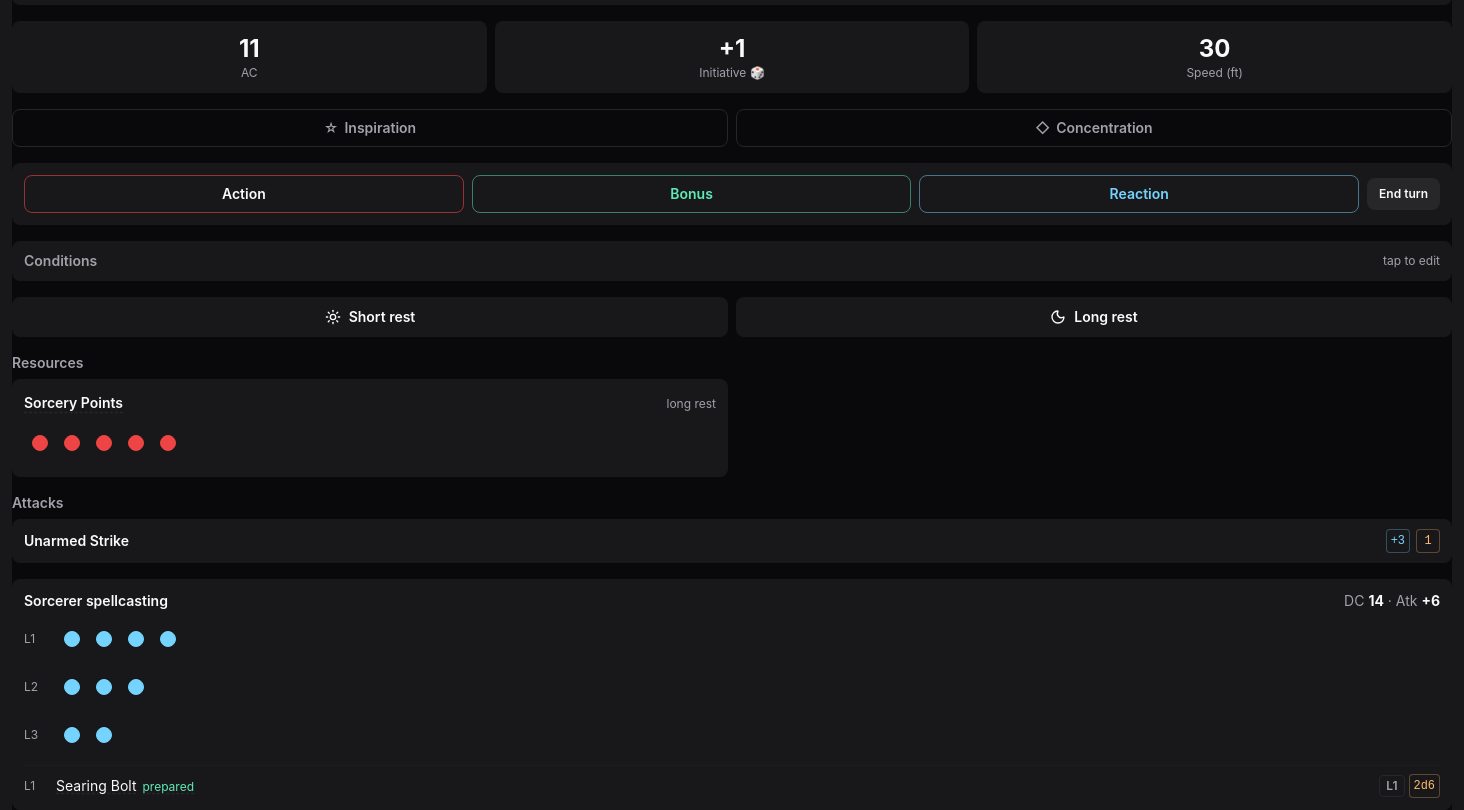
PlayTab cast resource choice (GAME-001) › scales the roll chip to the chosen slot before the roll happens
(page scrolled)
Expected: the button "2d6" is shown, [1409, 774, 1440, 798]
Step 1. Click the button named "casting with level 1 slot" → x=1392, y=786, box [1379, 775, 1405, 797]
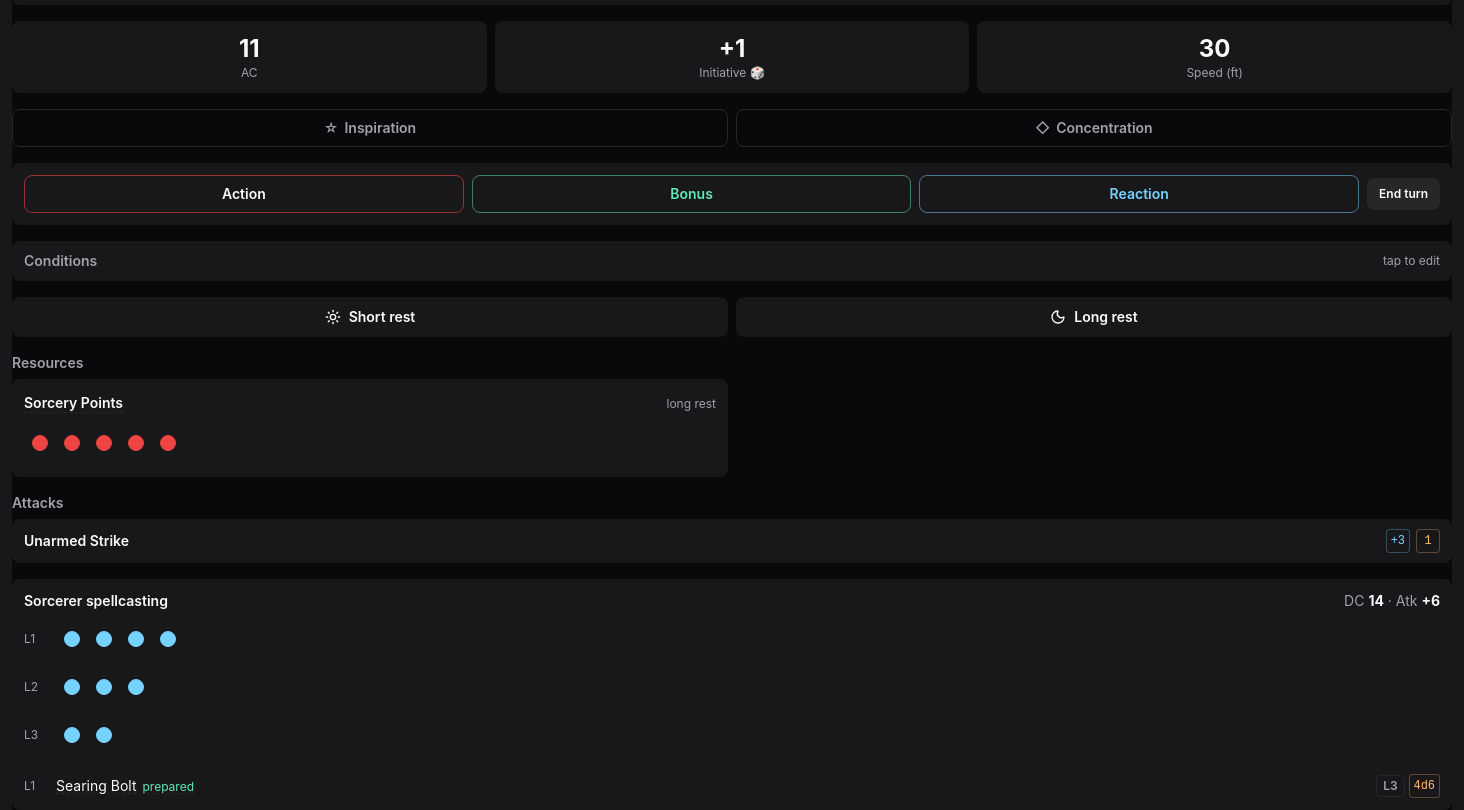
Expected: the button "4d6" is shown, [1409, 774, 1440, 798]
Expected: the button "2d6" is gone
